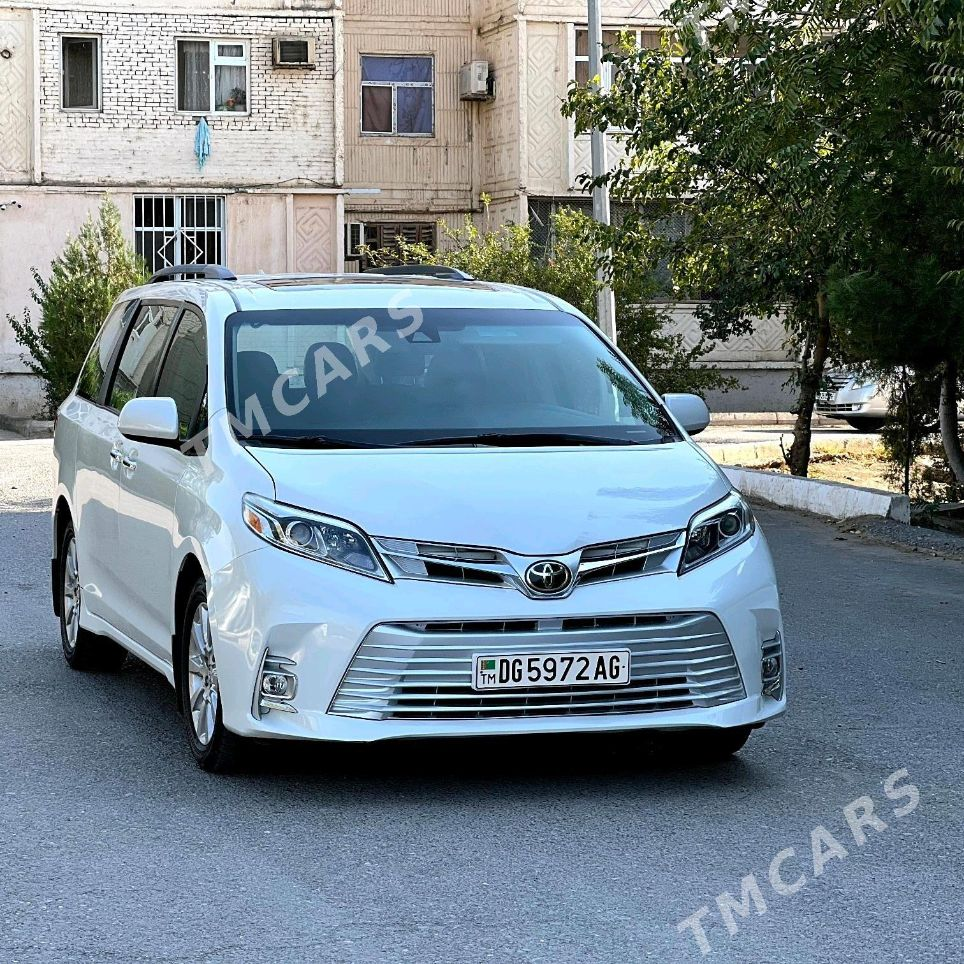license plate: (472, 652, 632, 686)
truck: (49, 272, 795, 771)
